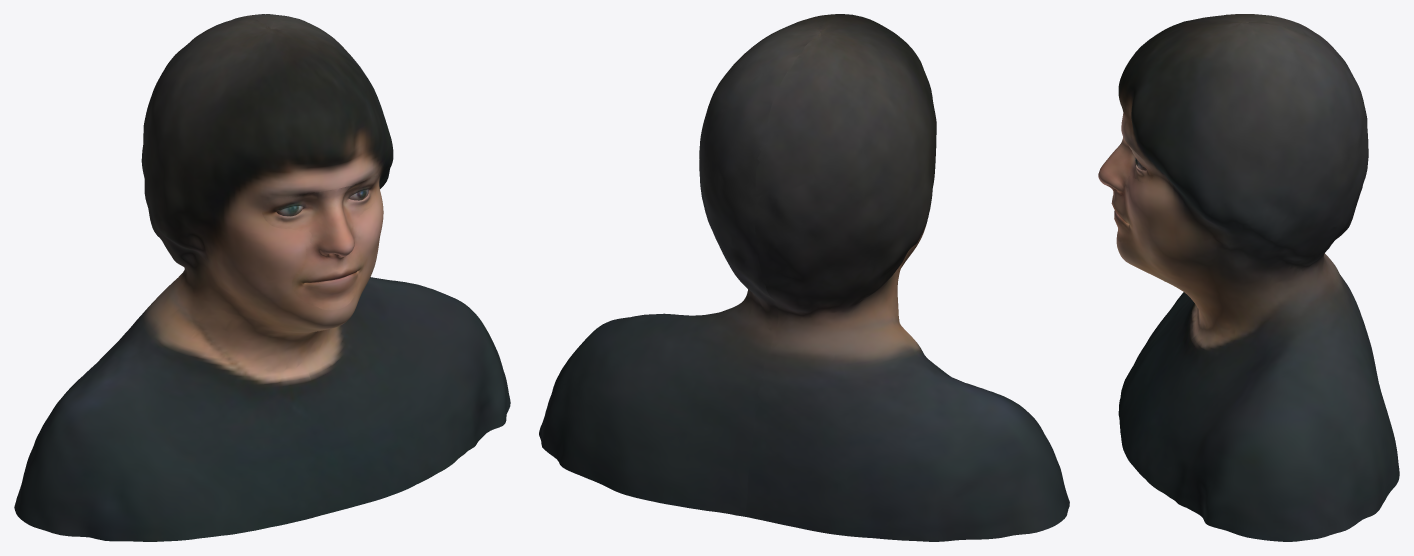
The model's file is AngelLeon.gltf.
3 views of the same model, side by side, from view 1: azimuth 30°, elevation 25°; view 2: azimuth 150°, elevation 25°; view 3: azimuth 270°, elevation 25° (orthographic). The views are drawn at different scales.
Visible parts, largest first — view 1: AngelLeon; view 2: AngelLeon; view 3: AngelLeon.
Part boxes in pixels (x1=…): AngelLeon: x1=14, y1=14, x2=510, y2=541; AngelLeon: x1=539, y1=14, x2=1069, y2=541; AngelLeon: x1=1098, y1=14, x2=1399, y2=541.
Bounding box in the file's own units: 9.7 × 8.12 × 5.46.
Materials: 1 (1 with a texture image).
